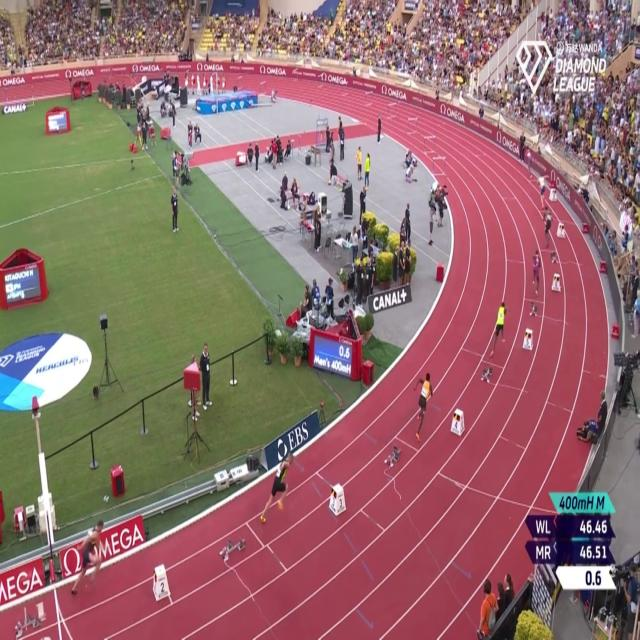athlete: (70, 510, 106, 600), (256, 446, 293, 530), (412, 368, 436, 449), (488, 298, 509, 362), (530, 245, 545, 303), (541, 200, 555, 246), (537, 170, 552, 207), (523, 139, 534, 184)
hurdle: (431, 156, 447, 180), (422, 134, 437, 154), (386, 99, 398, 122), (314, 72, 326, 90), (406, 116, 418, 134), (339, 79, 350, 98), (364, 90, 374, 109), (235, 74, 245, 90), (259, 77, 267, 95), (291, 65, 300, 81)
